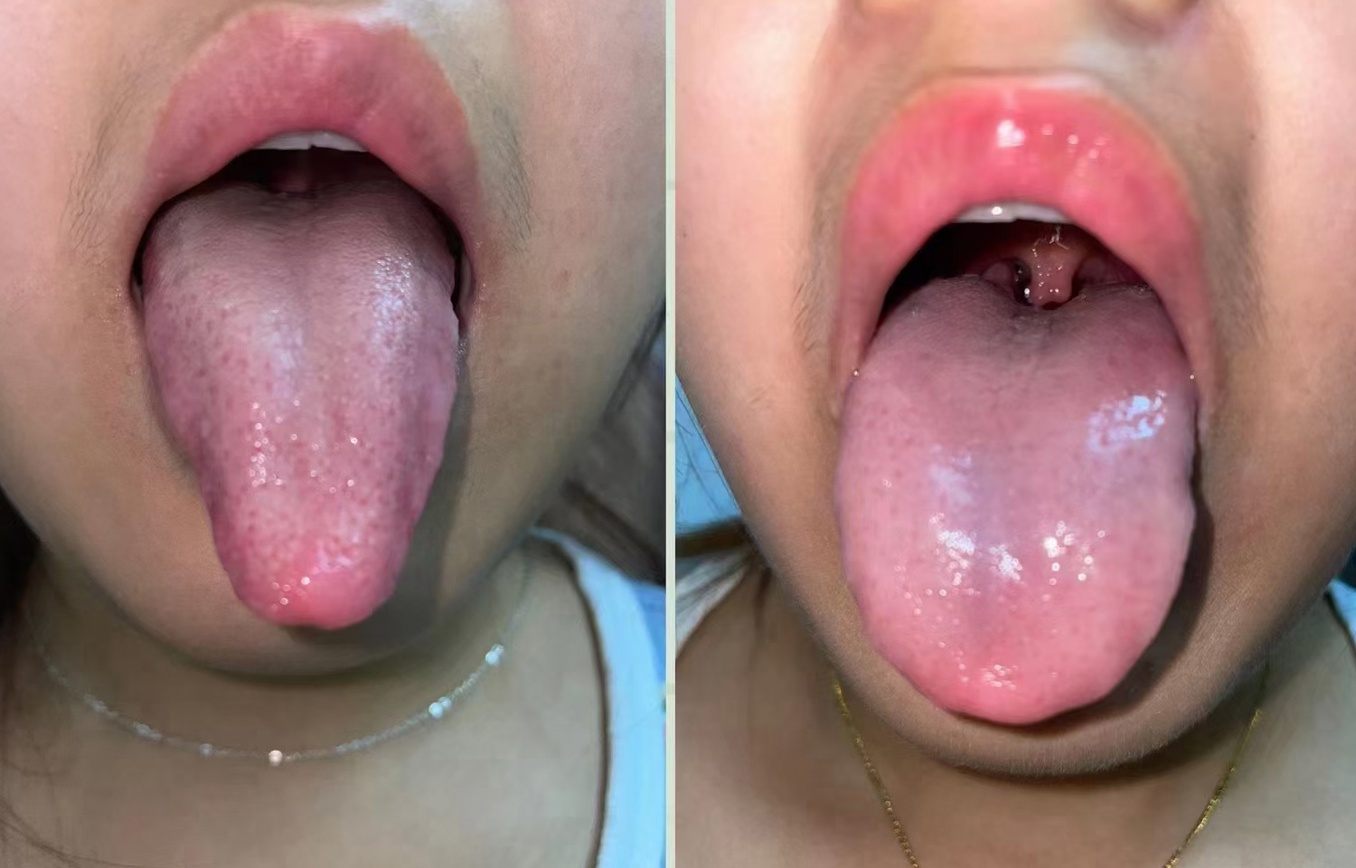baitaishe: (836, 278, 1195, 724), (144, 187, 457, 629)
hongshe: (836, 278, 1195, 724), (144, 187, 457, 629)
shoushe: (145, 187, 457, 629)
